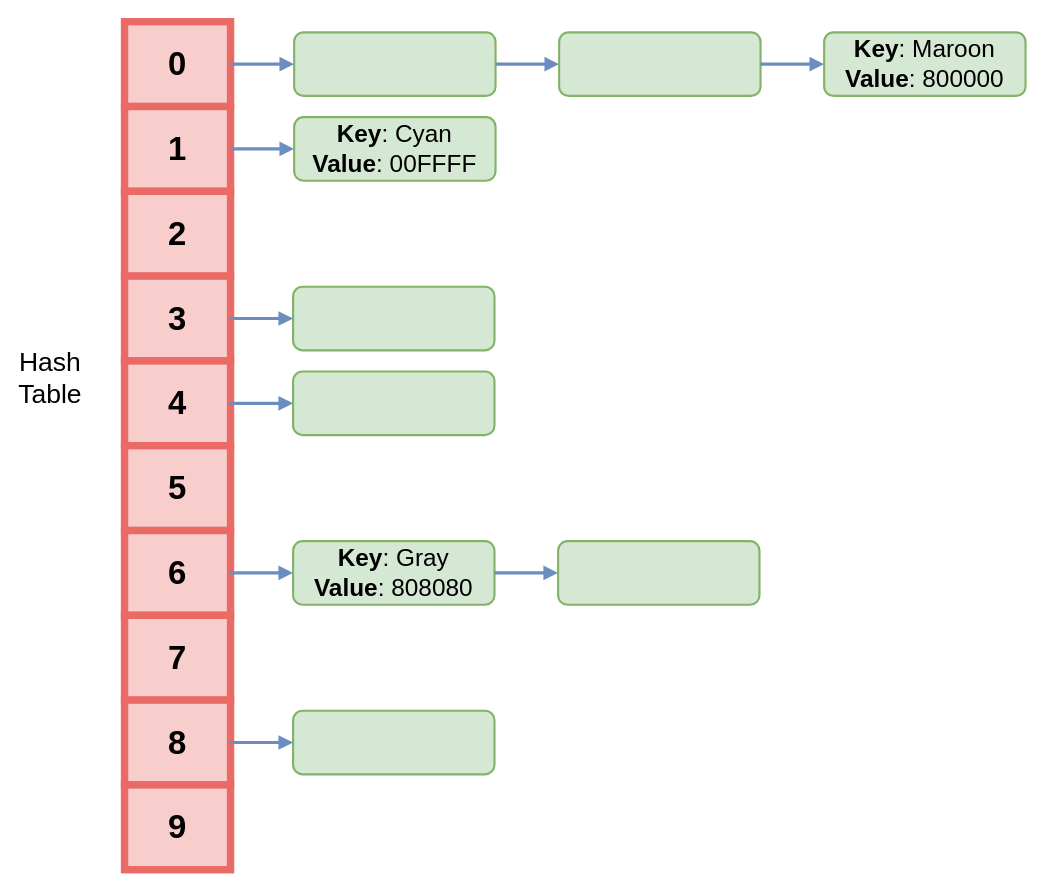
Some shapes in this 1044 by 891 pixel diagram are drawn without their labels. The centre of each missing label's shape, as x and y in pixels:
"Key : Black Value : 000000" belongs at point (659, 63).
"Key : Blue Value : 0000FF" belongs at point (393, 403).
"Key : Green Value : 00FF00" belongs at point (393, 318).
"Key : Purple Value : 800080" belongs at point (393, 742).
"Key : Red Value : FF0000" belongs at point (394, 63).
"Key : White Value : FFFFFF" belongs at point (658, 572).
